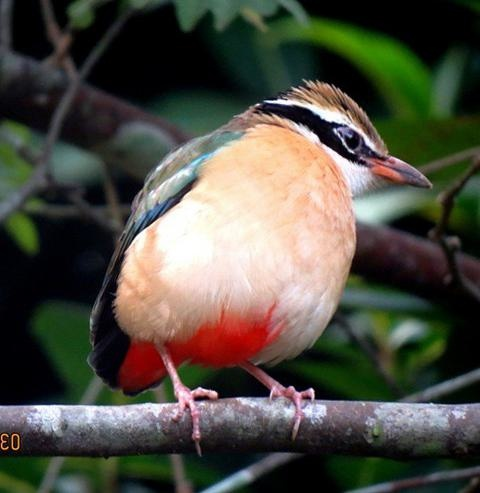pitta: (93, 75, 433, 444)
